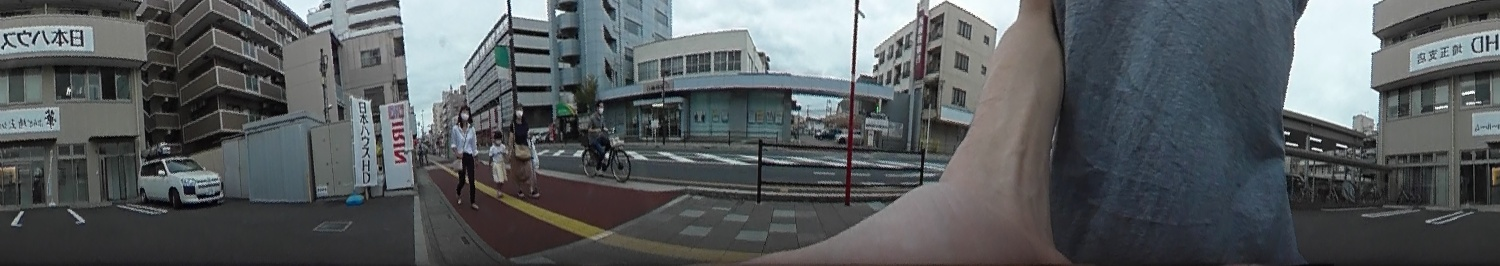difficult_person: (414, 142, 426, 166)
person: (506, 100, 544, 198), (450, 99, 480, 209), (579, 97, 612, 176), (482, 127, 512, 194)
